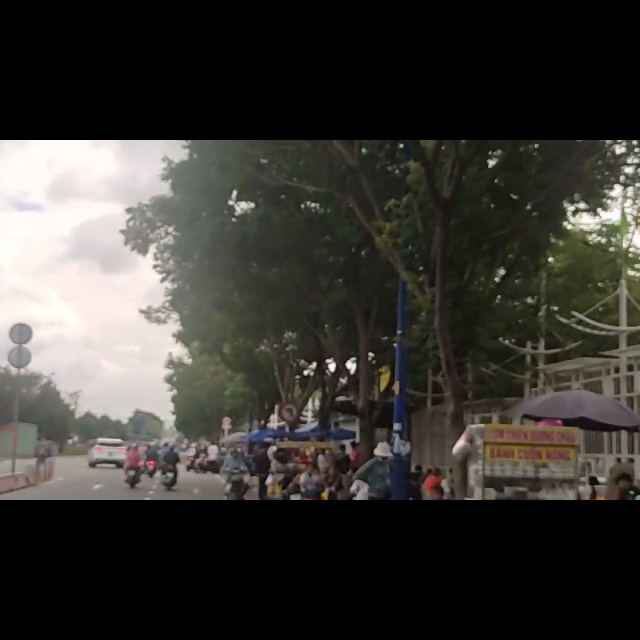bien_cam: (279, 468, 296, 500)
